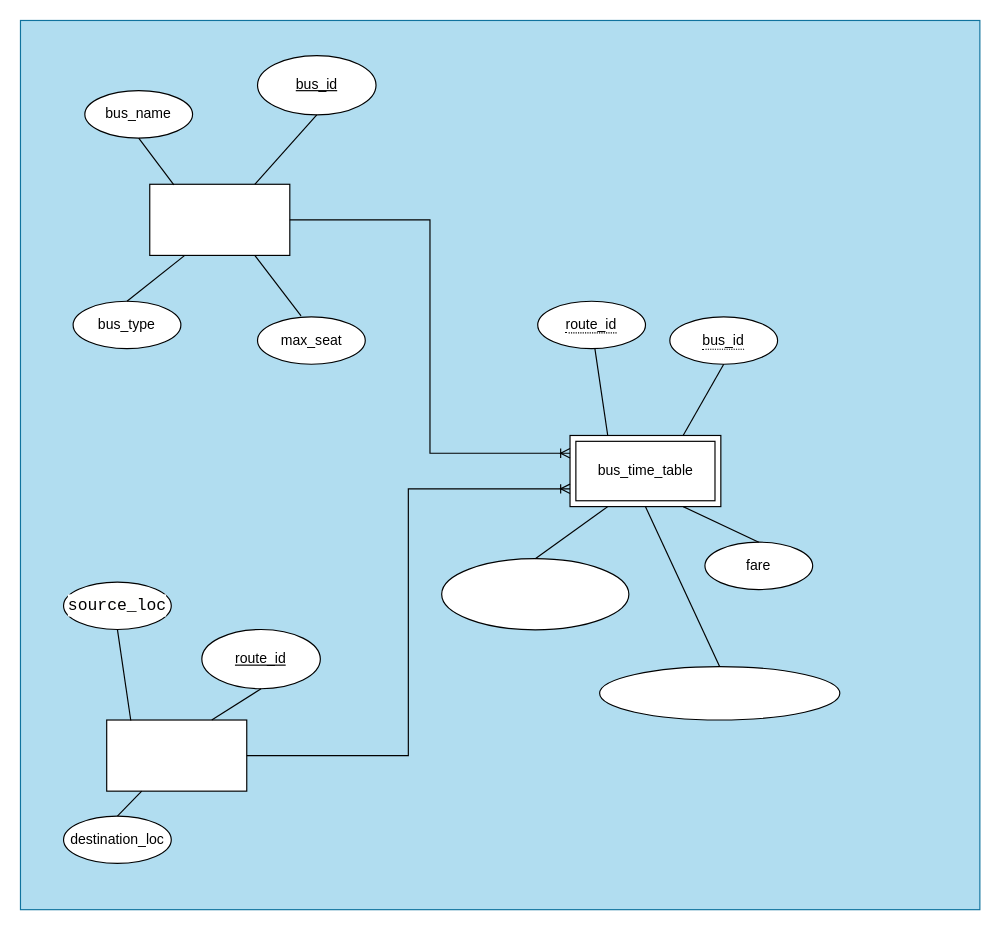
This 1000x930 diagram has some shape labels left out. The shapes that lost their labels are listed below. From the top down, each one's box as (x1, y1, x2, y2) in pixels, then its label:
(149, 183, 290, 255): bus_info
(441, 558, 629, 630): destination_arrival_time
(598, 665, 840, 720): source_departure_time
(106, 719, 247, 791): route_info
